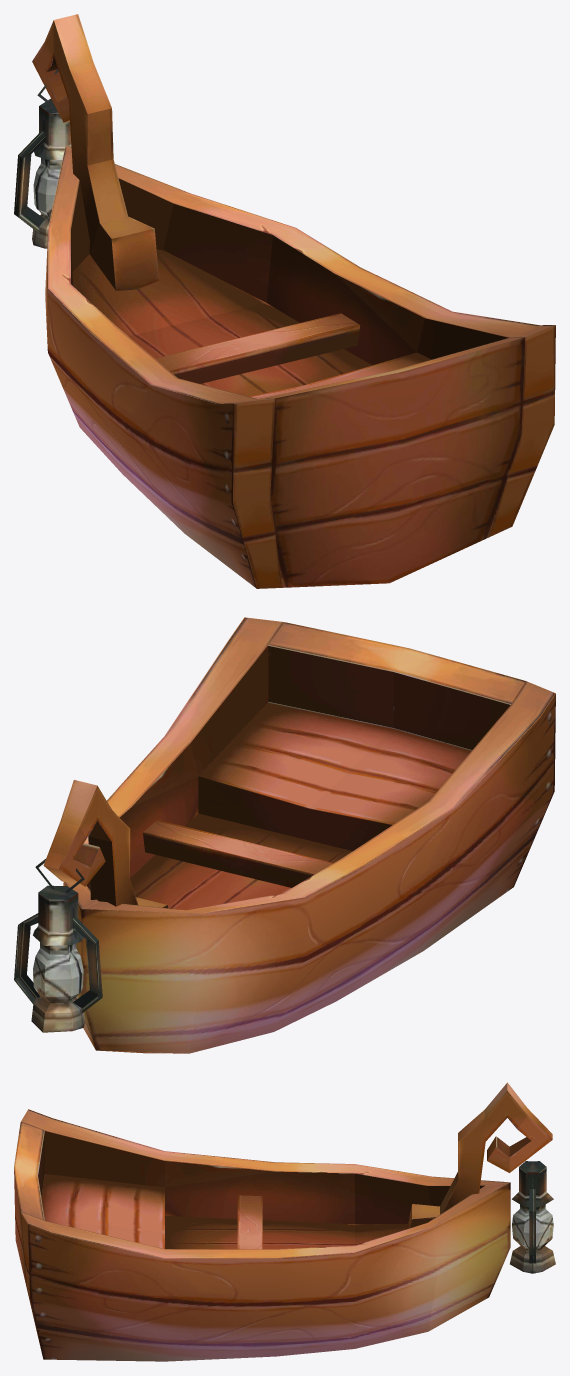
File: Gimmick_ship001.fbx
3 views of the same model, one above another, from view 1: azimuth 30°, elevation 25°; view 2: azimuth 150°, elevation 25°; view 3: azimuth 270°, elevation 25° (orthographic). The views are drawn at different scales.
Visible parts, largest first — view 1: Gimmick_ship001; view 2: Gimmick_ship001; view 3: Gimmick_ship001.
Part boxes in pixels (left/top/right/bottom): Gimmick_ship001: left=14, top=14, right=555, bottom=588; Gimmick_ship001: left=14, top=617, right=555, bottom=1053; Gimmick_ship001: left=14, top=1082, right=555, bottom=1361.
Size of the model in its own units: 1.3 by 1.32 by 2.58.
